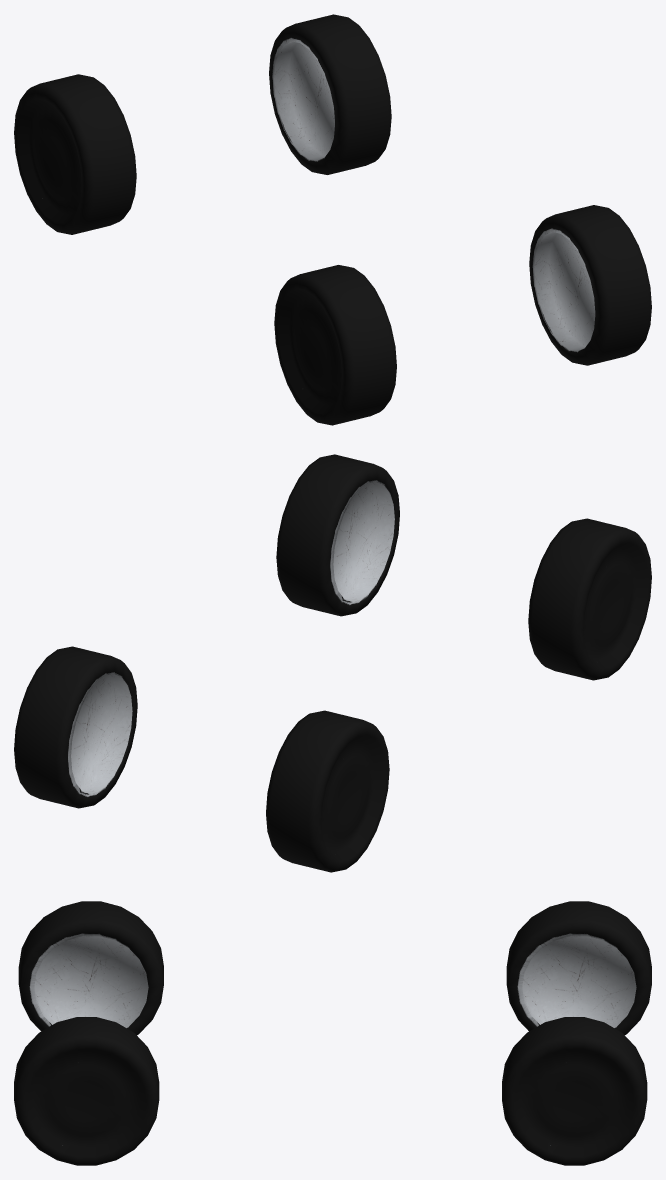
The model's file is rodas_carro.fbx.
3 renders of one model, top to bottom at view 1: azimuth 30°, elevation 25°; view 2: azimuth 150°, elevation 25°; view 3: azimuth 270°, elevation 25°, orthographic. The views are drawn at different scales.
Visible parts, largest first — view 1: Circle.009; view 2: Circle.009; view 3: Circle.009.
Part boxes in pixels (<box>): Circle.009: <box>14,14,651,425</box>; Circle.009: <box>14,454,651,872</box>; Circle.009: <box>14,901,651,1165</box>.
Size of the model in its own units: 198 by 86.69 by 384.
1 material, 1 textured.
